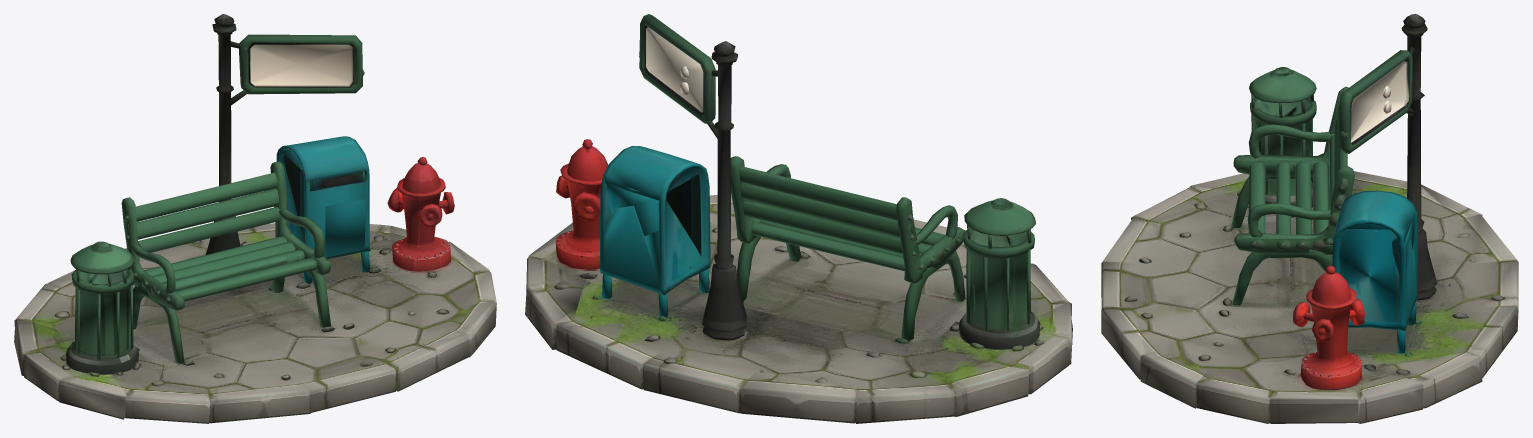
File: street-furniture-cluster.glb
The picture shows the model from 3 angles, left to right: view 1: azimuth 30°, elevation 25°; view 2: azimuth 150°, elevation 25°; view 3: azimuth 270°, elevation 25°; orthographic projection. The views are drawn at different scales.
Size of the model in its own units: 1 by 0.6132 by 0.7656.
1 material, 1 textured.
